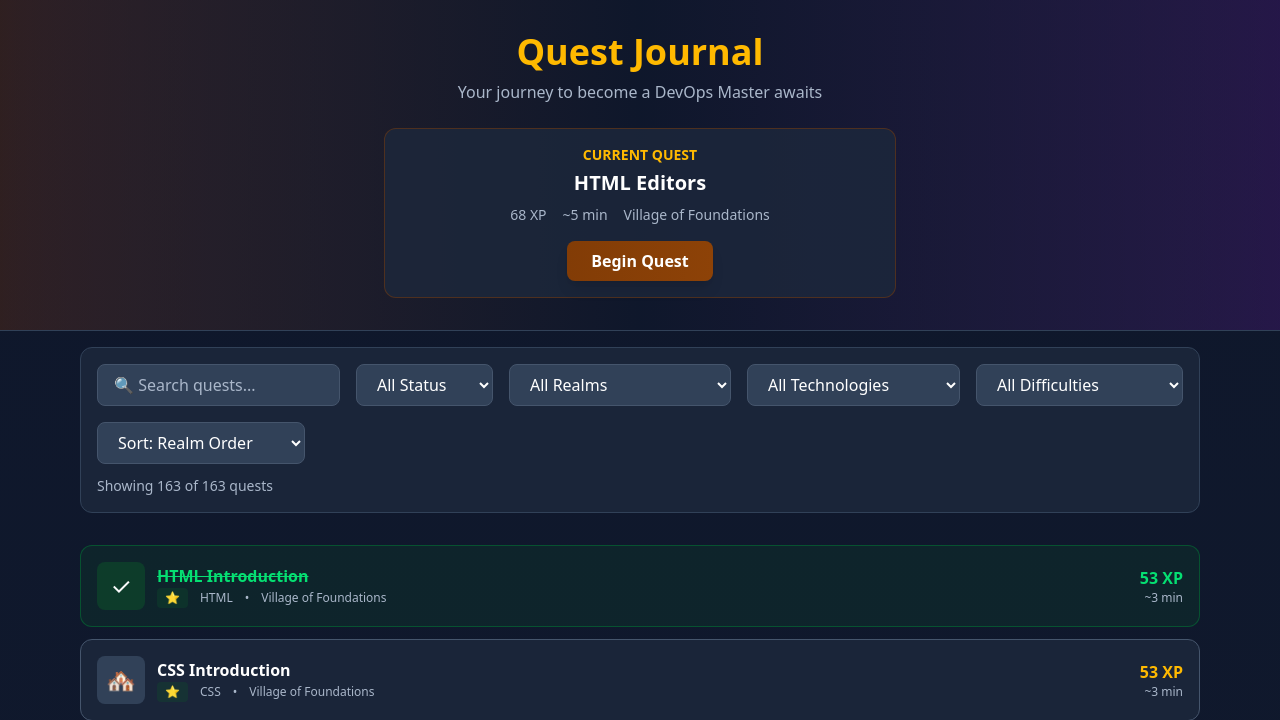
QuestJournalPage › splits the list into available and completed quests
Select "Available" in the dropdown named "Filter quests by status" at x=424, y=385, box [356, 364, 493, 406]
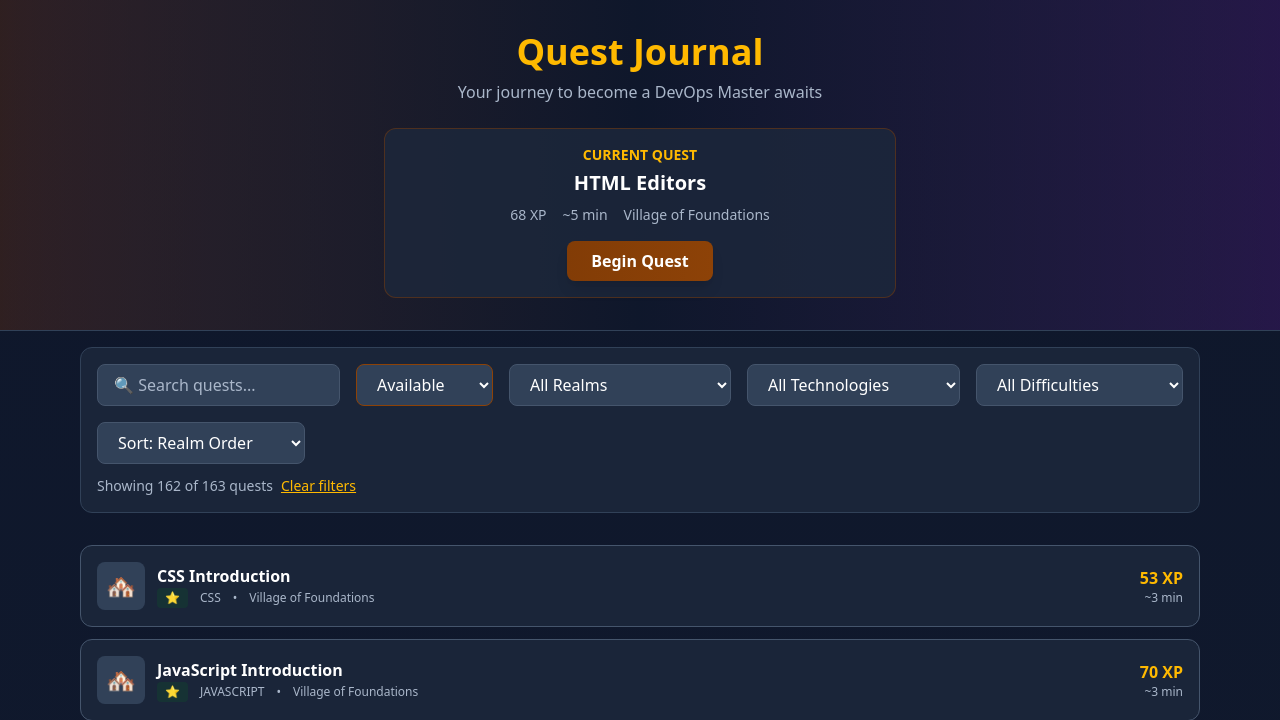
Expected: the text "CURRENT QUEST" is shown, [583, 145, 697, 164]
Expected: the link "HTML Introduction" is gone
Select "Completed" in the dropdown named "Filter quests by status" at x=424, y=385, box [356, 364, 493, 406]
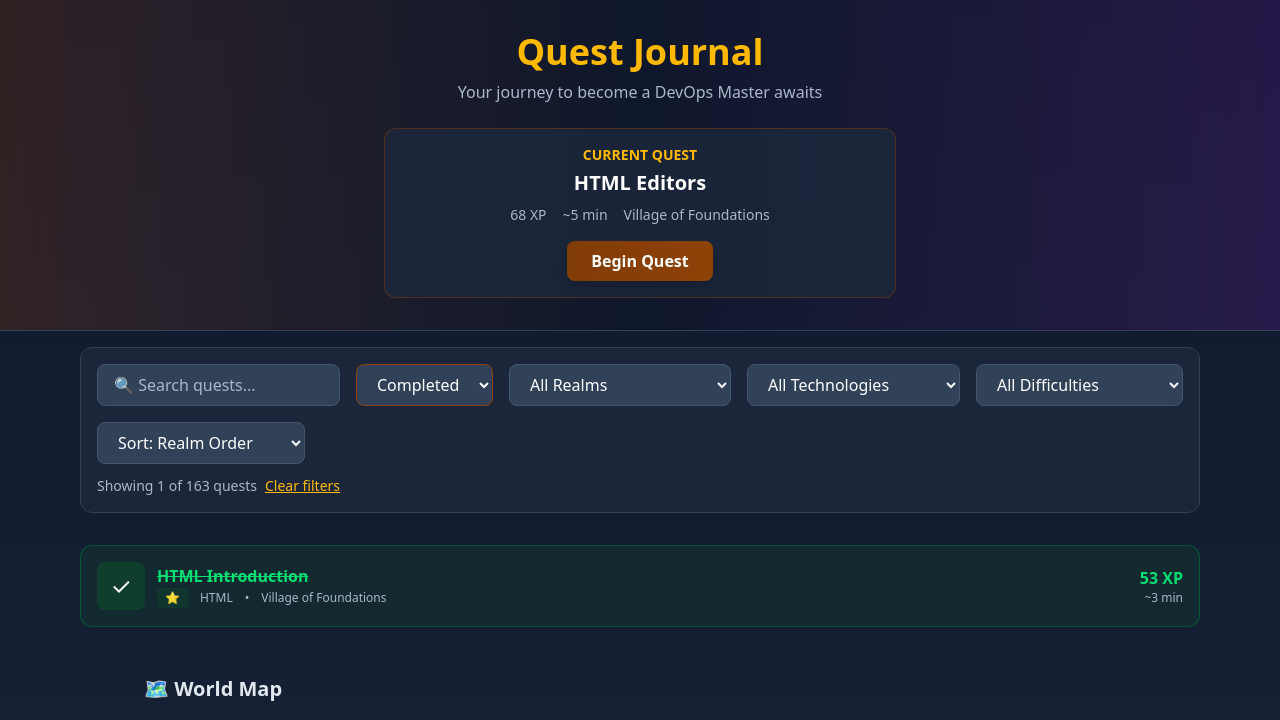
Expected: the heading "HTML Introduction" is shown, [157, 565, 308, 587]
